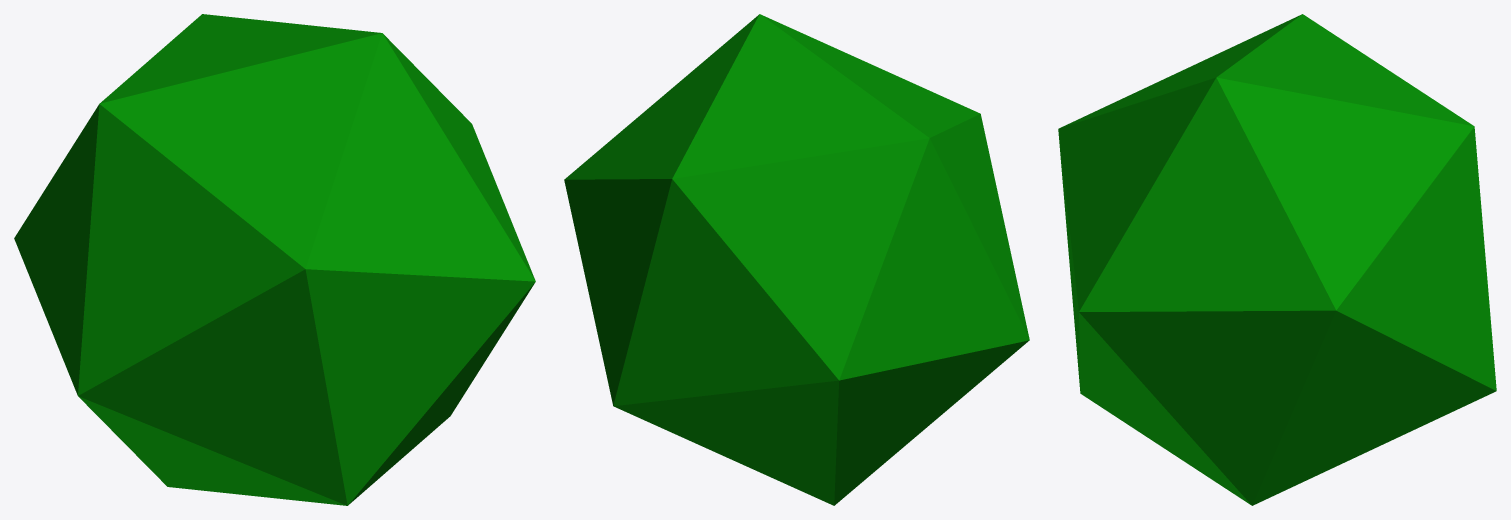
Rendered from Kust_V5.fbx.
3 views of the same model, side by side, from view 1: azimuth 30°, elevation 25°; view 2: azimuth 150°, elevation 25°; view 3: azimuth 270°, elevation 25° (orthographic). The views are drawn at different scales.
Visible parts, largest first — view 1: Kust_V5; view 2: Kust_V5; view 3: Kust_V5.
Part boxes in pixels (x1=…): Kust_V5: x1=14, y1=14, x2=535, y2=505; Kust_V5: x1=564, y1=14, x2=1029, y2=505; Kust_V5: x1=1058, y1=14, x2=1496, y2=505.
Size of the model in its own units: 2.97 by 2.89 by 2.65.
